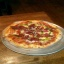pizza: (3, 18, 63, 49)
